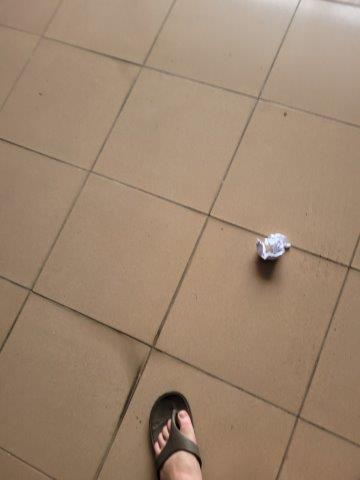kertas: (255, 232, 290, 263)
